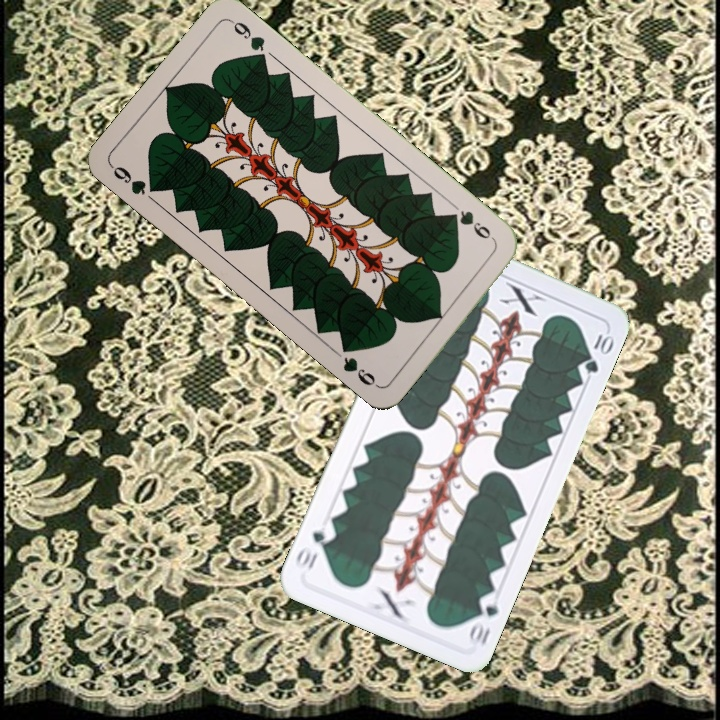G10: (465, 589, 501, 649)
G9: (445, 206, 499, 246), (107, 162, 163, 198)
